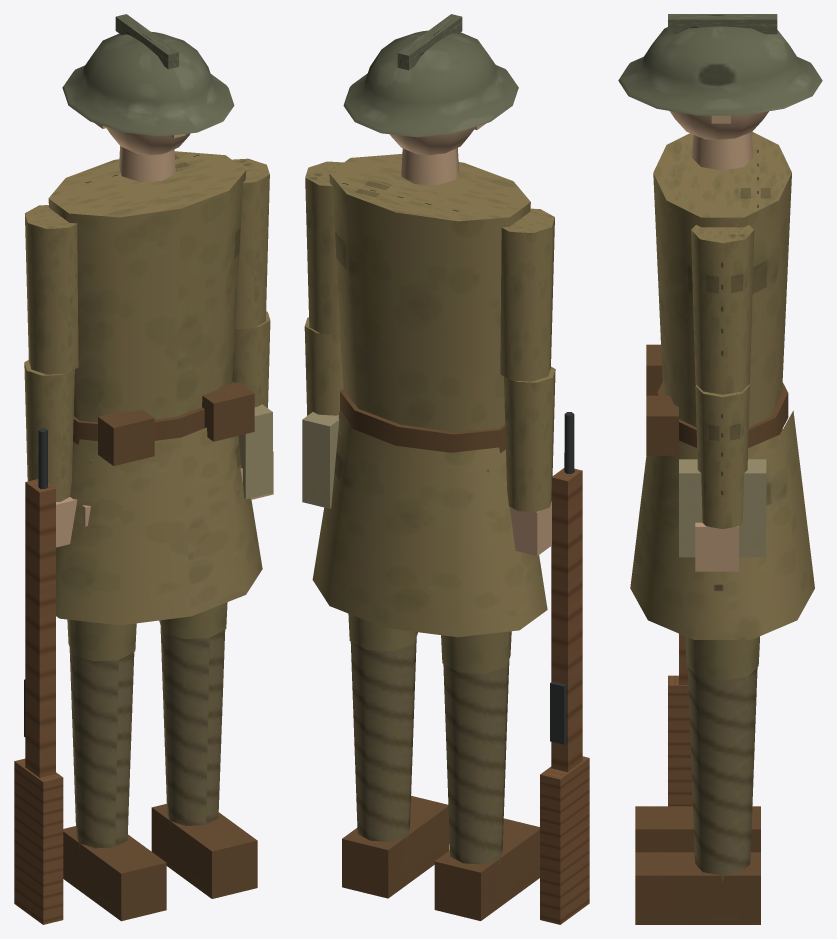
The model's file is infantry-1.glb.
The picture shows the model from 3 angles, left to right: view 1: azimuth 30°, elevation 25°; view 2: azimuth 150°, elevation 25°; view 3: azimuth 270°, elevation 25°; orthographic projection. The views are drawn at different scales.
Parts seen in each view (by area): view 1: body, shin_left, shin_right, rifle, head, arm_right, forearm_right, arm_left, forearm_left, leg_right, leg_left; view 2: body, shin_left, rifle, shin_right, head, arm_right, forearm_right, arm_left, forearm_left, leg_right, leg_left; view 3: body, shin_left, head, arm_left, forearm_left, rifle, shin_right, leg_left.
Boxes of the visible parts, bbox=[...] form: body: bbox=[48, 151, 272, 625]; shin_left: bbox=[151, 626, 257, 898]; shin_right: bbox=[63, 648, 166, 921]; rifle: bbox=[14, 428, 63, 924]; head: bbox=[62, 14, 234, 181]; arm_right: bbox=[25, 205, 78, 374]; forearm_right: bbox=[24, 360, 90, 547]; arm_left: bbox=[232, 158, 269, 328]; forearm_left: bbox=[232, 311, 273, 499]; leg_right: bbox=[67, 460, 136, 661]; leg_left: bbox=[159, 602, 227, 639]; body: bbox=[302, 154, 547, 637]; shin_left: bbox=[342, 638, 449, 898]; rifle: bbox=[540, 412, 589, 924]; shin_right: bbox=[434, 660, 539, 920]; head: bbox=[343, 14, 518, 185]; arm_right: bbox=[500, 208, 554, 381]; forearm_right: bbox=[504, 366, 555, 555]; arm_left: bbox=[305, 161, 343, 335]; forearm_left: bbox=[304, 317, 343, 415]; leg_right: bbox=[441, 469, 511, 673]; leg_left: bbox=[340, 433, 417, 651]; body: bbox=[630, 131, 814, 639]; shin_left: bbox=[635, 667, 760, 924]; head: bbox=[618, 14, 822, 170]; arm_left: bbox=[691, 225, 754, 394]; forearm_left: bbox=[695, 384, 749, 571]; rifle: bbox=[668, 633, 692, 806]; shin_right: bbox=[635, 806, 760, 852]; leg_left: bbox=[685, 636, 759, 681].
Bounding box in the file's own units: 0.552 × 1.76 × 0.3744.
7 materials, 7 textured.
